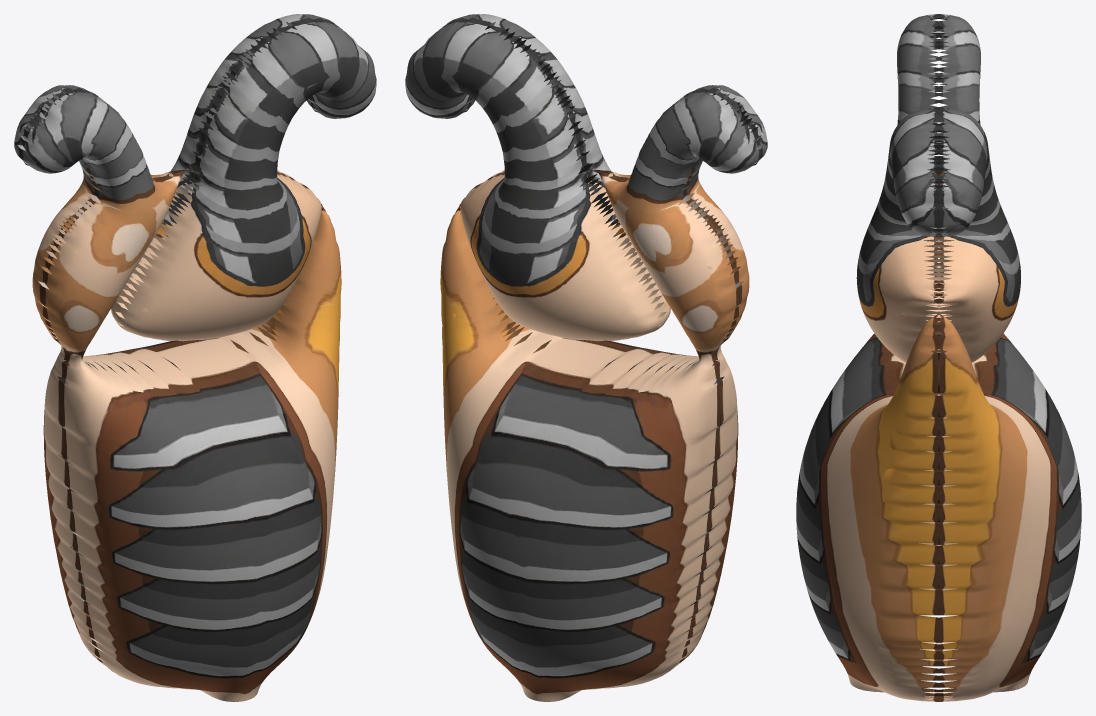
File: vent_pod.glb
3 views of the same model, side by side, from view 1: azimuth 30°, elevation 25°; view 2: azimuth 150°, elevation 25°; view 3: azimuth 270°, elevation 25° (orthographic).
Visible parts, largest first — view 1: vent_pod; view 2: vent_pod; view 3: vent_pod.
Part boxes in pixels (bbox=[...]): vent_pod: bbox=[14, 14, 376, 701]; vent_pod: bbox=[405, 14, 767, 701]; vent_pod: bbox=[796, 14, 1081, 701].
Bounding box in the file's own units: 0.9813 × 1.68 × 0.7071.
1 material, 1 textured.
